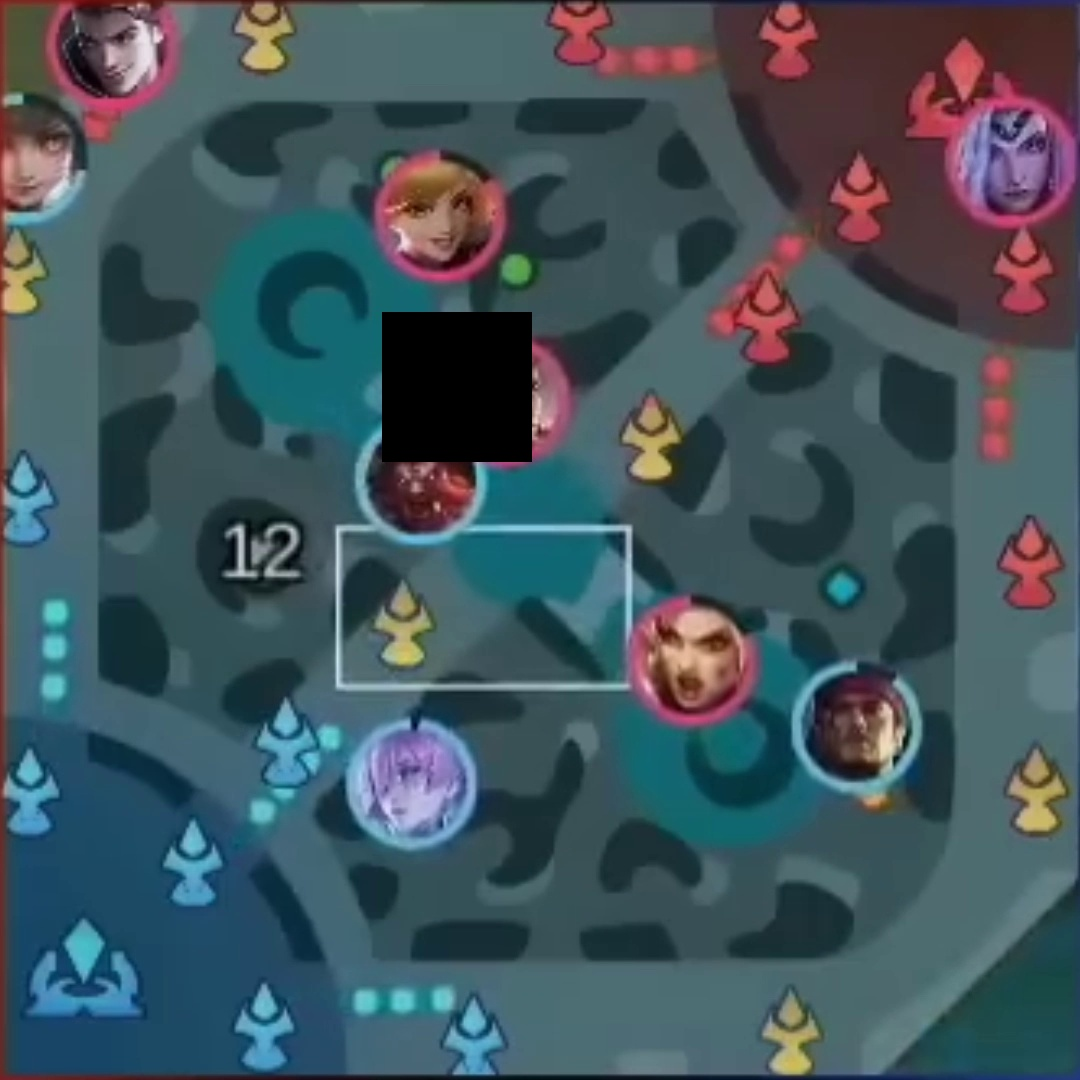Chou: (452, 351, 557, 452)
Claude: (63, 2, 170, 102)
Fanny: (387, 163, 501, 272)
Lapu-Lapu: (806, 673, 906, 775)
Masha: (637, 597, 744, 713)
Minotaur: (371, 427, 477, 539)
Novaria: (356, 731, 466, 837)
Valentina: (962, 100, 1068, 221)
Wanwan: (2, 100, 82, 204)
